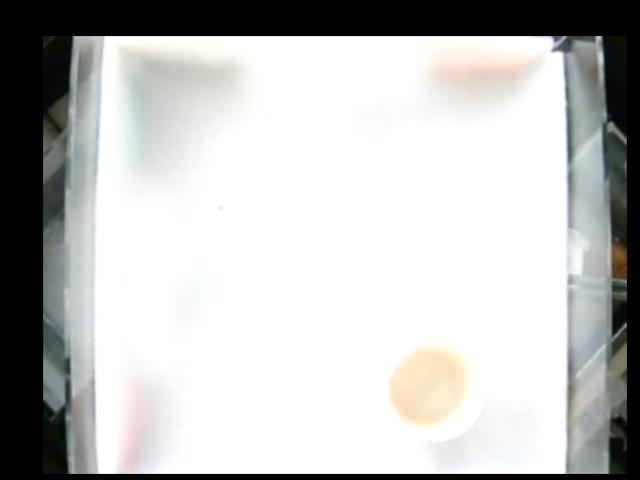Cup: (382, 336, 487, 441)
